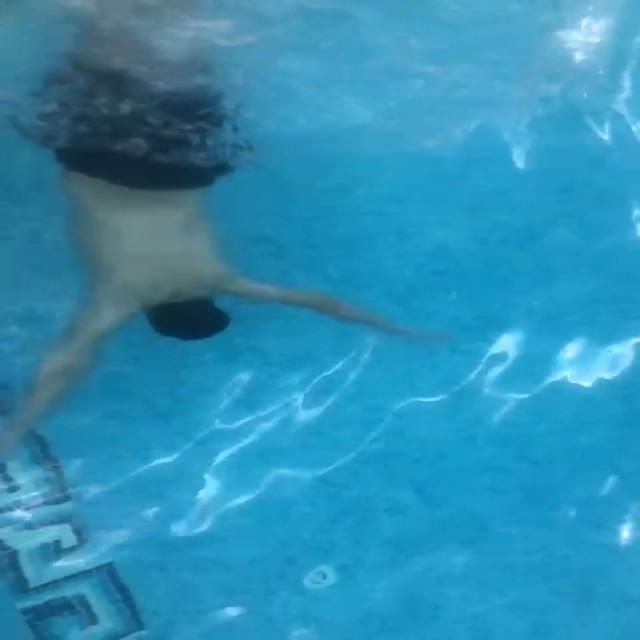Drowning: (2, 0, 436, 463)
